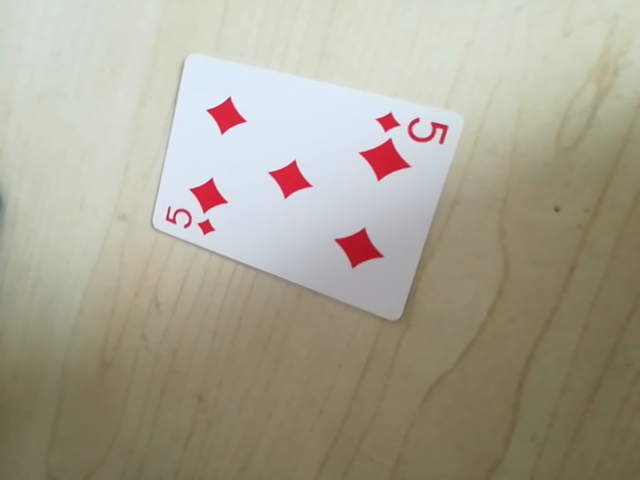fk 5: (372, 106, 451, 148), (159, 204, 220, 240)
